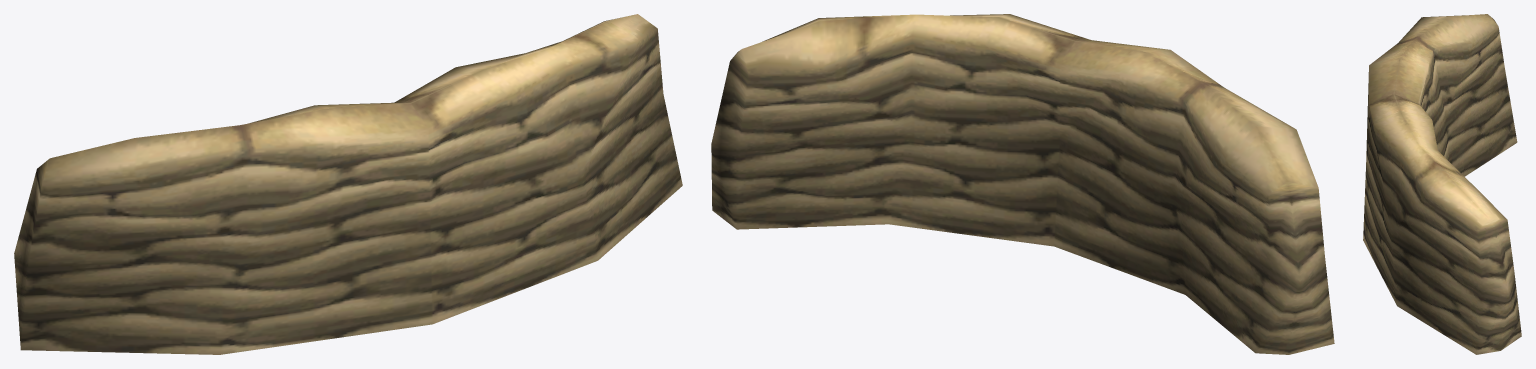
Rendered from SandBags2_High_Curved.glb.
3 renders of one model, left to right at view 1: azimuth 30°, elevation 25°; view 2: azimuth 150°, elevation 25°; view 3: azimuth 270°, elevation 25°, orthographic. The views are drawn at different scales.
Visible parts, largest first — view 1: SANDBAGS2_HIGH_CURVED; view 2: SANDBAGS2_HIGH_CURVED; view 3: SANDBAGS2_HIGH_CURVED.
Part boxes in pixels (x1,y1,x2,y2): SANDBAGS2_HIGH_CURVED: (14,14,682,354); SANDBAGS2_HIGH_CURVED: (711,14,1334,354); SANDBAGS2_HIGH_CURVED: (1363,14,1521,354).
Bounding box in the file's own units: 4.43 × 1.38 × 1.29.
1 material, 1 textured.
